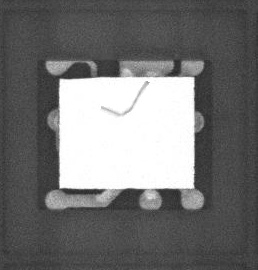DIE_INK: (96, 85, 142, 122)
